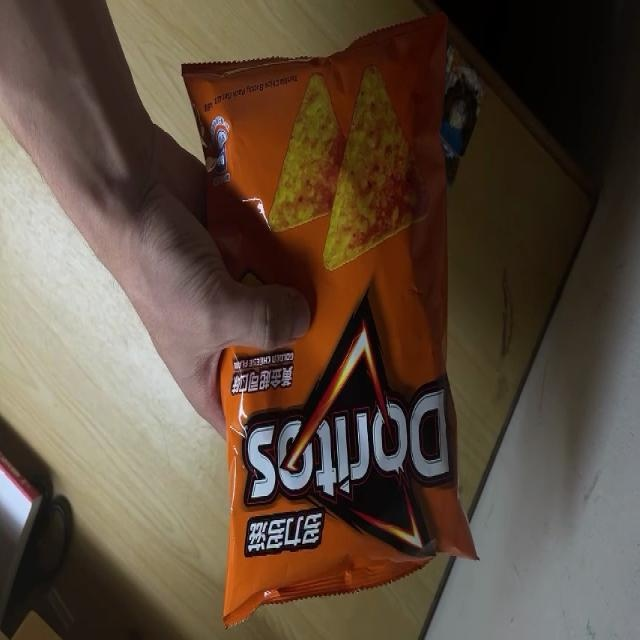Doritos: (181, 12, 476, 628)
